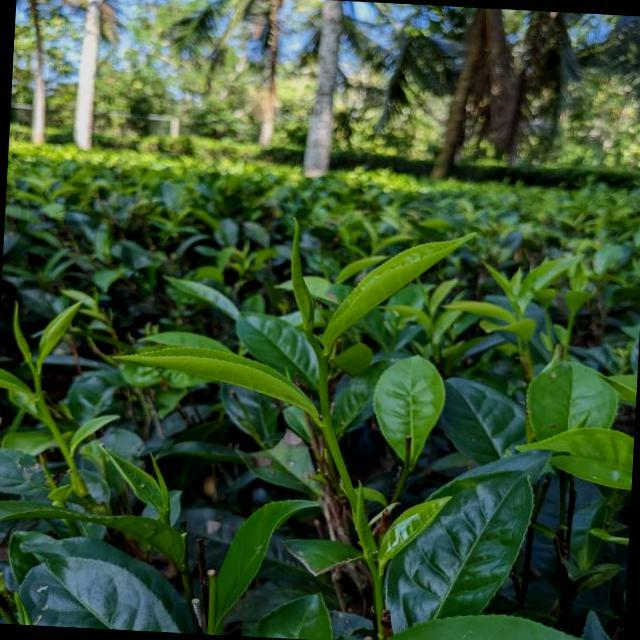Stem: (319, 358, 327, 369), (35, 376, 40, 384)
